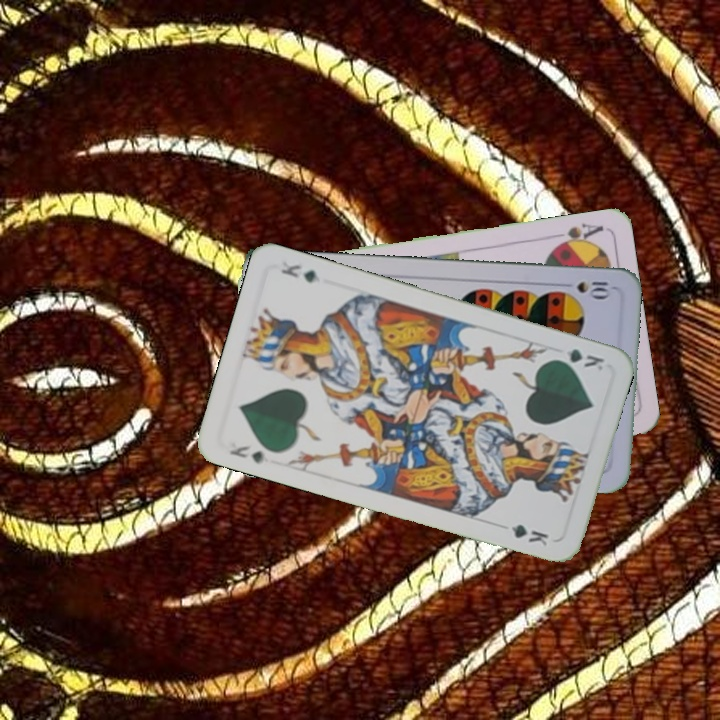GK: (549, 344, 607, 374), (226, 438, 267, 466)
S10: (572, 277, 613, 299)
SA: (549, 219, 606, 251)
